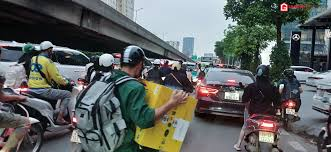Bien-so: (260, 131, 274, 142), (225, 91, 240, 101), (71, 129, 81, 143), (286, 108, 295, 115)
